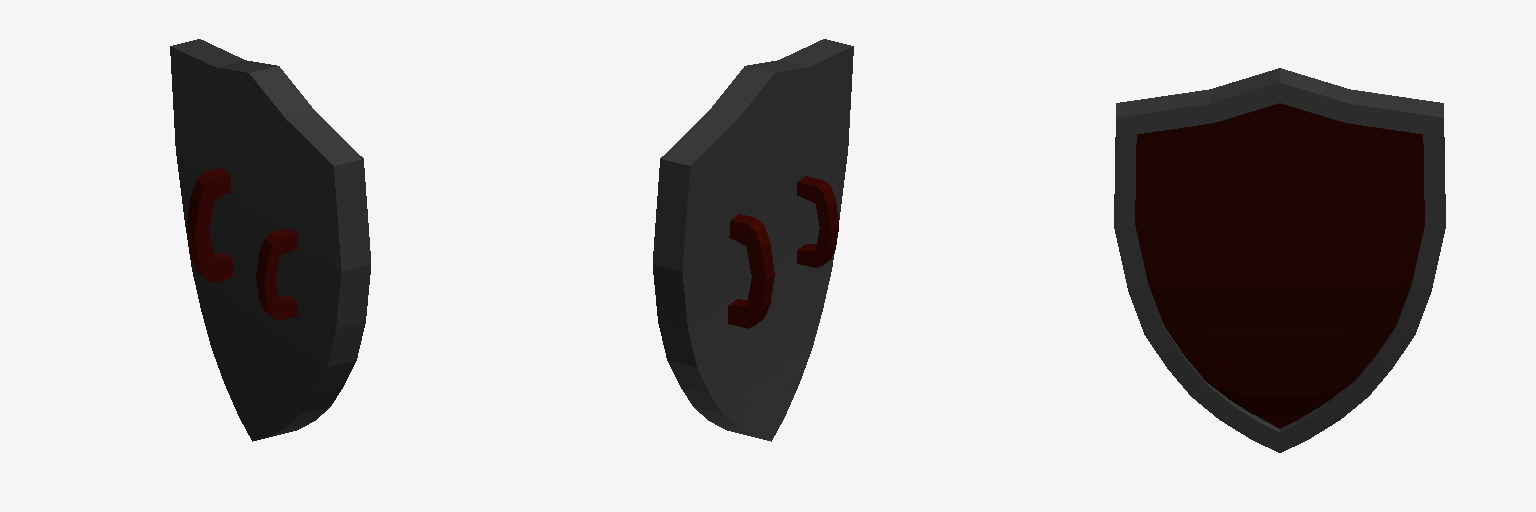
The model's file is escudo.obj.
3 renders of one model, left to right at view 1: azimuth 30°, elevation 25°; view 2: azimuth 150°, elevation 25°; view 3: azimuth 270°, elevation 25°, orthographic.
Visible parts, largest first — view 1: handles; view 2: handles; view 3: handles.
Part boxes in pixels (bbox=[...]): handles: bbox=[170, 39, 370, 441]; handles: bbox=[653, 39, 853, 441]; handles: bbox=[1114, 68, 1445, 452].
Size of the model in its own units: 0.6661 by 3.45 by 2.81.